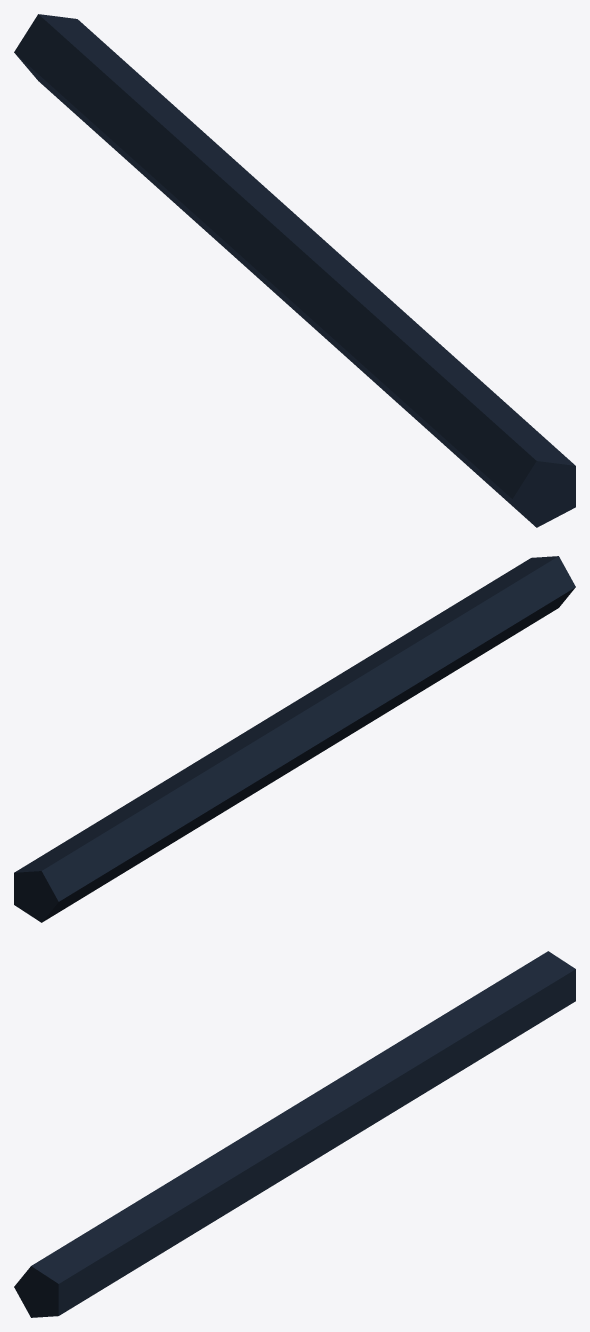
File: f1-antenna.glb
The picture shows the model from 3 angles, top to bottom: view 1: azimuth 30°, elevation 25°; view 2: azimuth 150°, elevation 25°; view 3: azimuth 330°, elevation 25°; orthographic projection. The views are drawn at different scales.
Parts seen in each view (by area): view 1: cel_ink_radio.004; view 2: cel_ink_radio.004; view 3: cel_ink_radio.004.
Part boxes in pixels (x1,y1,x2,y2): cel_ink_radio.004: (14, 14, 575, 527); cel_ink_radio.004: (14, 556, 575, 922); cel_ink_radio.004: (14, 951, 575, 1317).
Bounding box in the file's own units: 0.0344 × 0.0152 × 0.2412.
